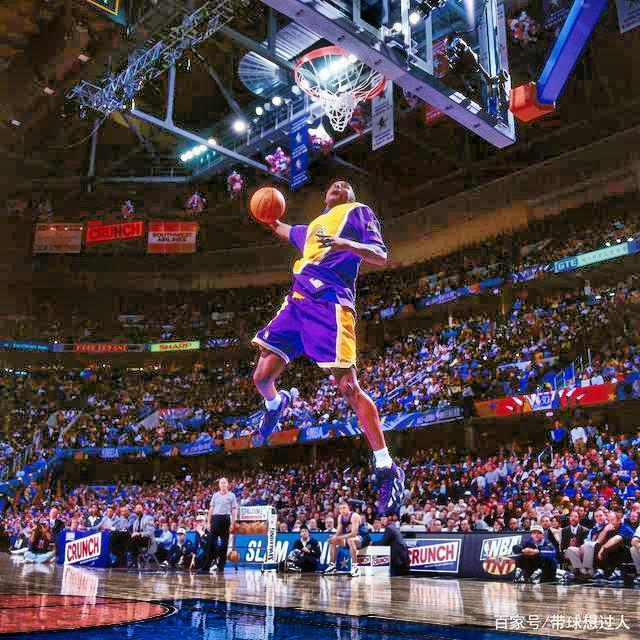board: (252, 188, 286, 224)
rim: (296, 43, 388, 132)
